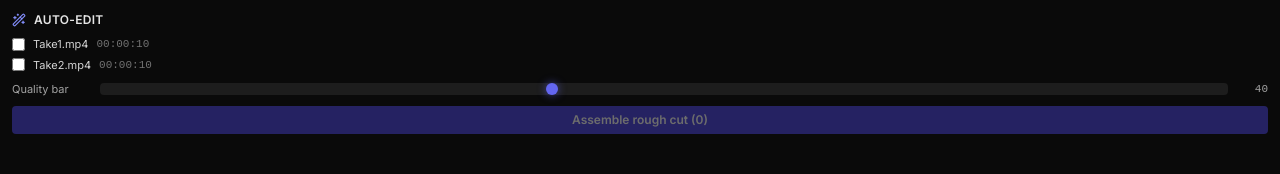
Test: R25.1 — AutoEditPanel › surfaces pipeline failure without touching the timeline
What coordinates should you click on to do the following:
click the checkbox named "Select Take1.mp4"
I would click on:
 (18, 44)
Its box is [12, 38, 25, 51].
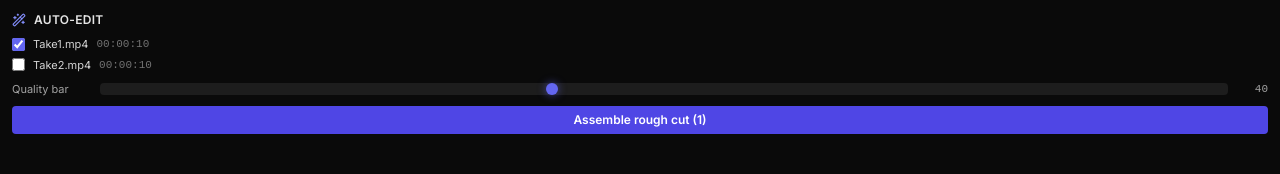
What coordinates should you click on to do the following:
click the button "Assemble rough cut (1)"
I would click on:
 (640, 120)
Its box is [12, 106, 1268, 134].
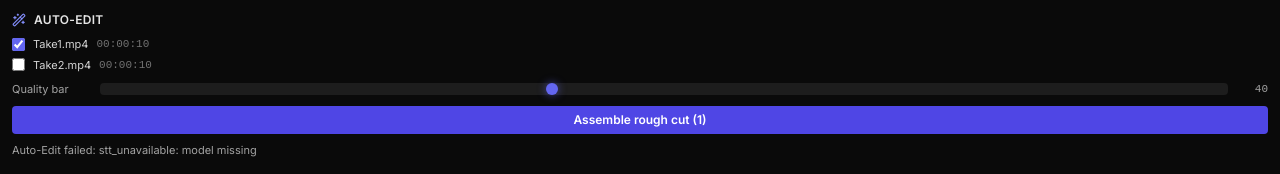
Check: the text "Auto-Edit failed: stt_unavailable: model missing" is shown, box [12, 142, 257, 156]
